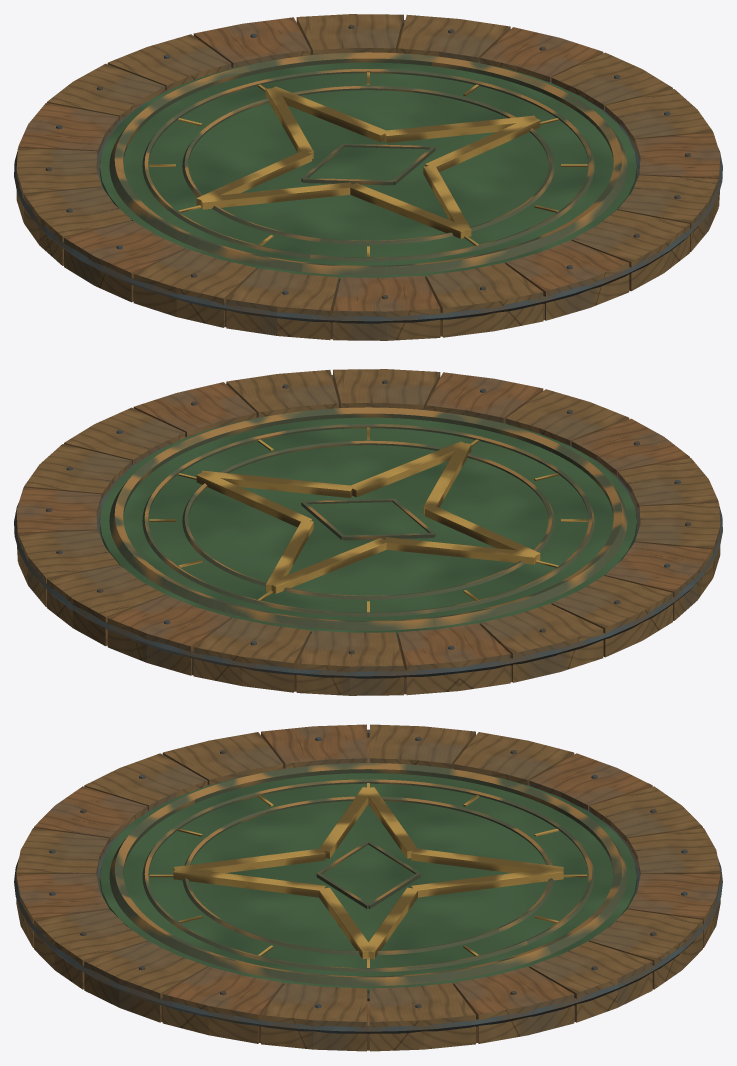
The model's file is b07_teleport_base.fbx.
3 renders of one model, top to bottom at view 1: azimuth 30°, elevation 25°; view 2: azimuth 150°, elevation 25°; view 3: azimuth 270°, elevation 25°, orthographic.
Parts seen in each view (by area): view 1: b07_teleport_base; view 2: b07_teleport_base; view 3: b07_teleport_base.
Boxes of the visible parts, box(x1,y1,x2,y2) form: b07_teleport_base: box(14, 14, 722, 340); b07_teleport_base: box(14, 369, 722, 695); b07_teleport_base: box(14, 724, 722, 1051).
Bounding box in the file's own units: 37240 × 37240 × 1925.
